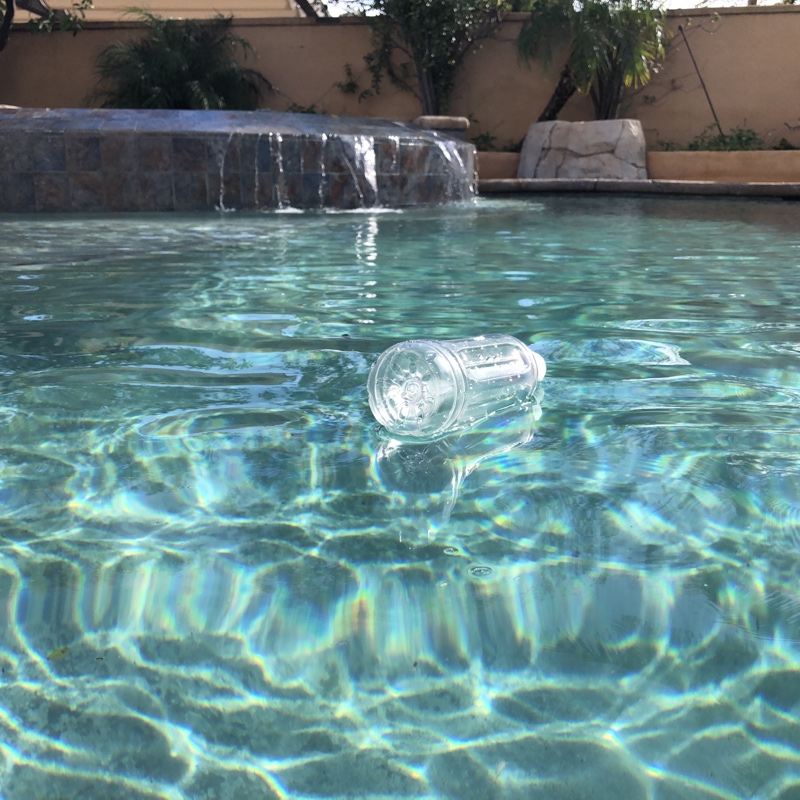Plastic Bottle: (362, 327, 553, 448)
